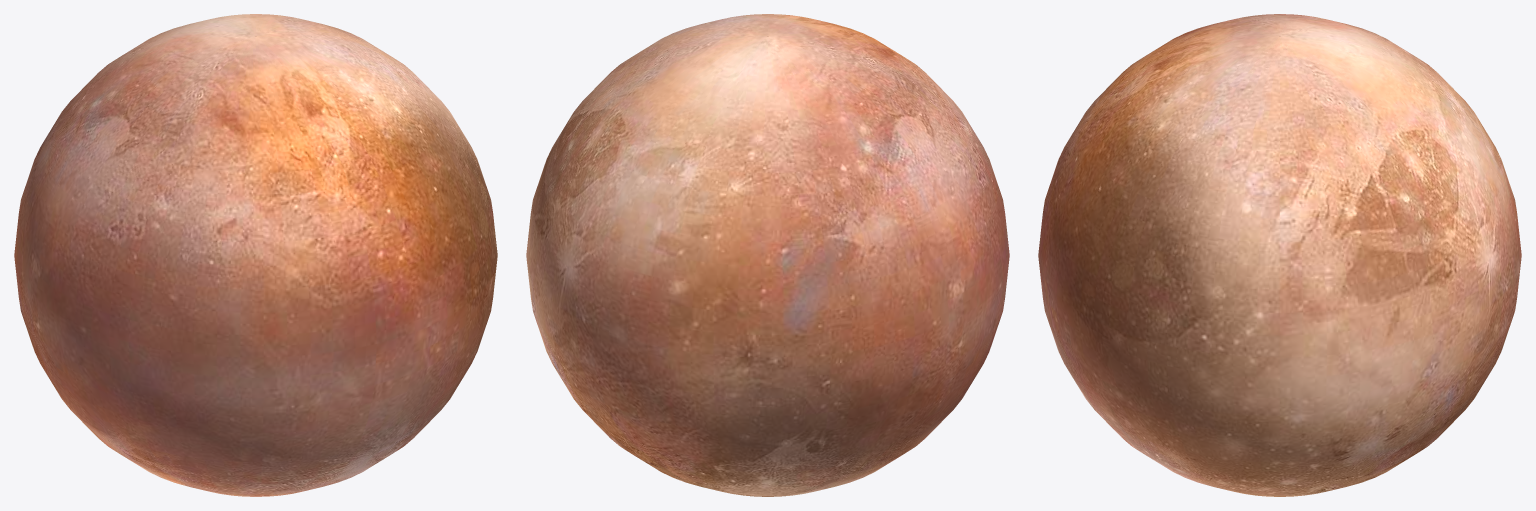
File: pluto.glb
3 views of the same model, side by side, from view 1: azimuth 30°, elevation 25°; view 2: azimuth 150°, elevation 25°; view 3: azimuth 270°, elevation 25° (orthographic).
Visible parts, largest first — view 1: Pluto; view 2: Pluto; view 3: Pluto.
Boxes of the visible parts, x1,y1,x2,y2 form: Pluto: (14,14,497,496); Pluto: (526,14,1009,496); Pluto: (1038,14,1521,496).
Size of the model in its own units: 11 by 11 by 11.
Materials: 1 (1 with a texture image).
